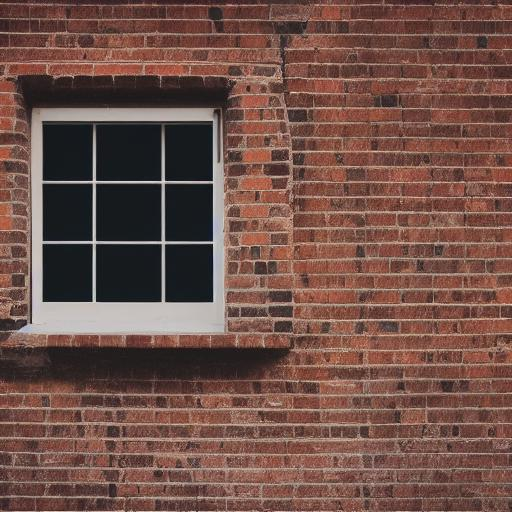Window: (0, 66, 293, 349)
